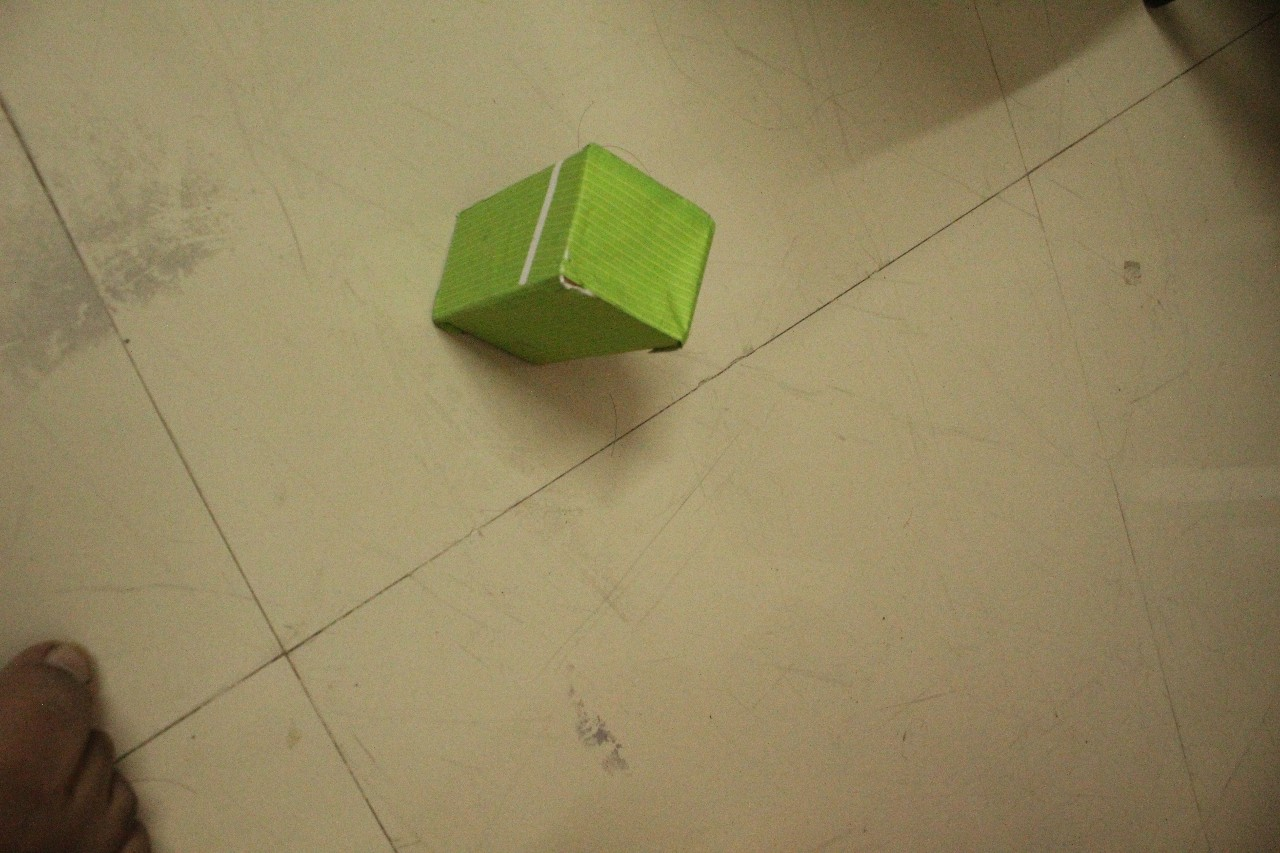green: (381, 130, 733, 373)
red: (0, 631, 150, 853)
